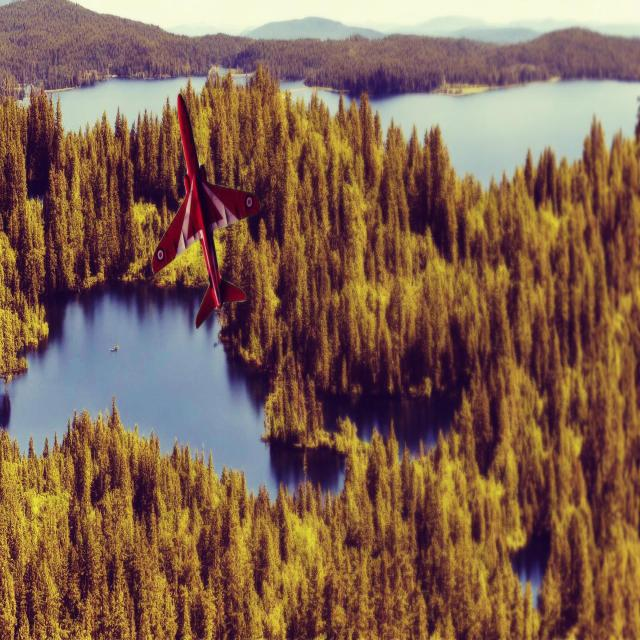airplane: (151, 91, 261, 329)
